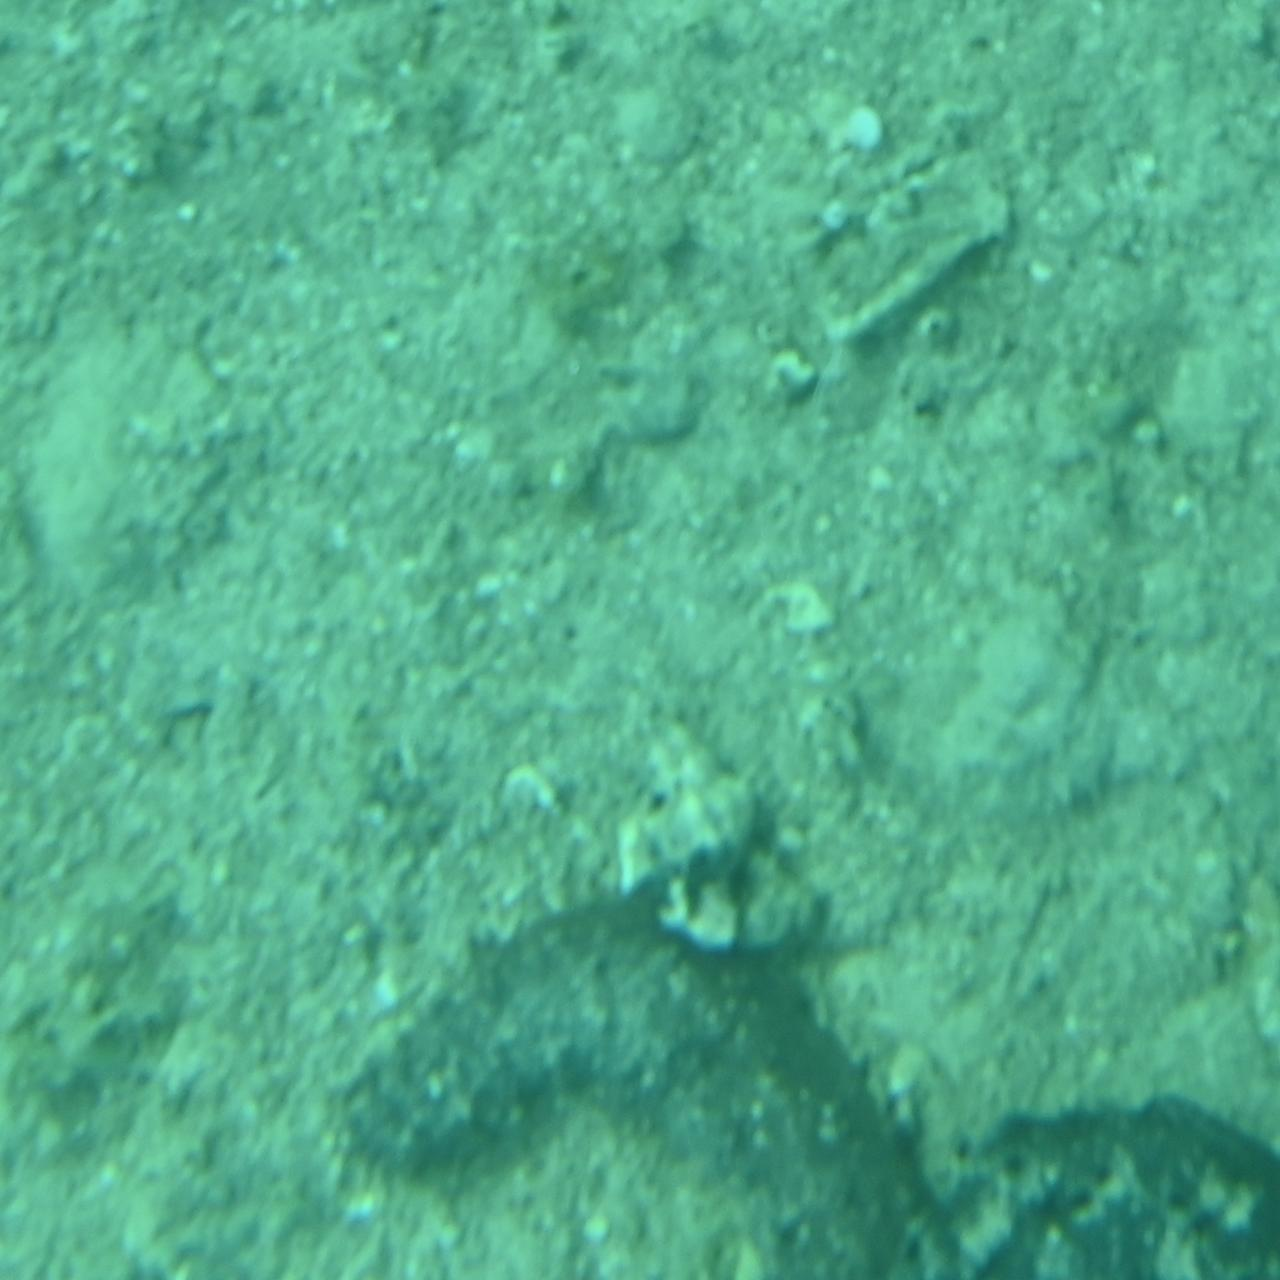Holothuria tubulosa: (326, 891, 954, 1280)
